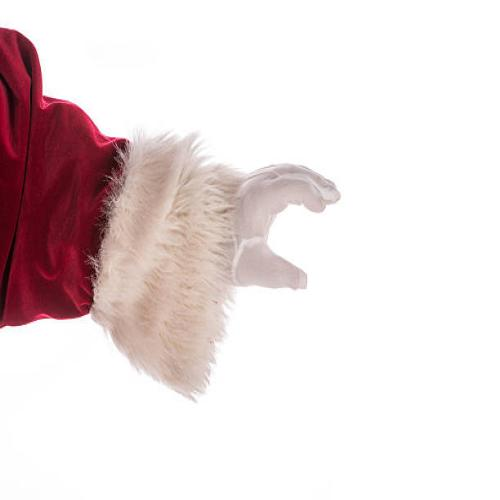Santa: (0, 13, 350, 416)
